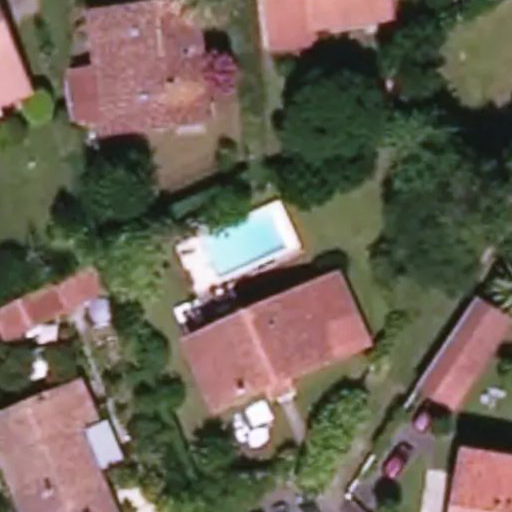pool: (208, 243, 297, 245)
